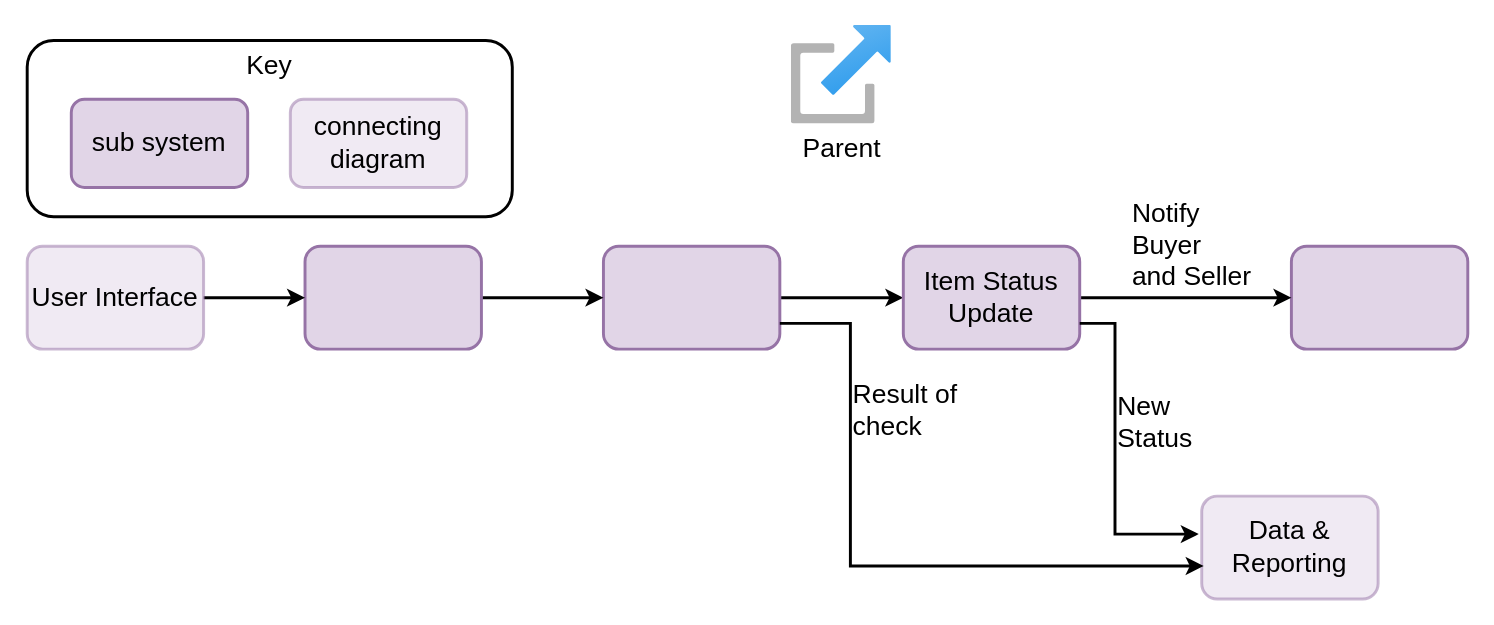
The diagram is 1494 pixels wide and 625 high, and some of its shapes have lost their labels. The centre of each missing label's shape, as x and y in pixels:
Notifications: point (1379, 297)
Pre-Purchase Checks: point (691, 297)
Purchase Request Handling: point (392, 297)
